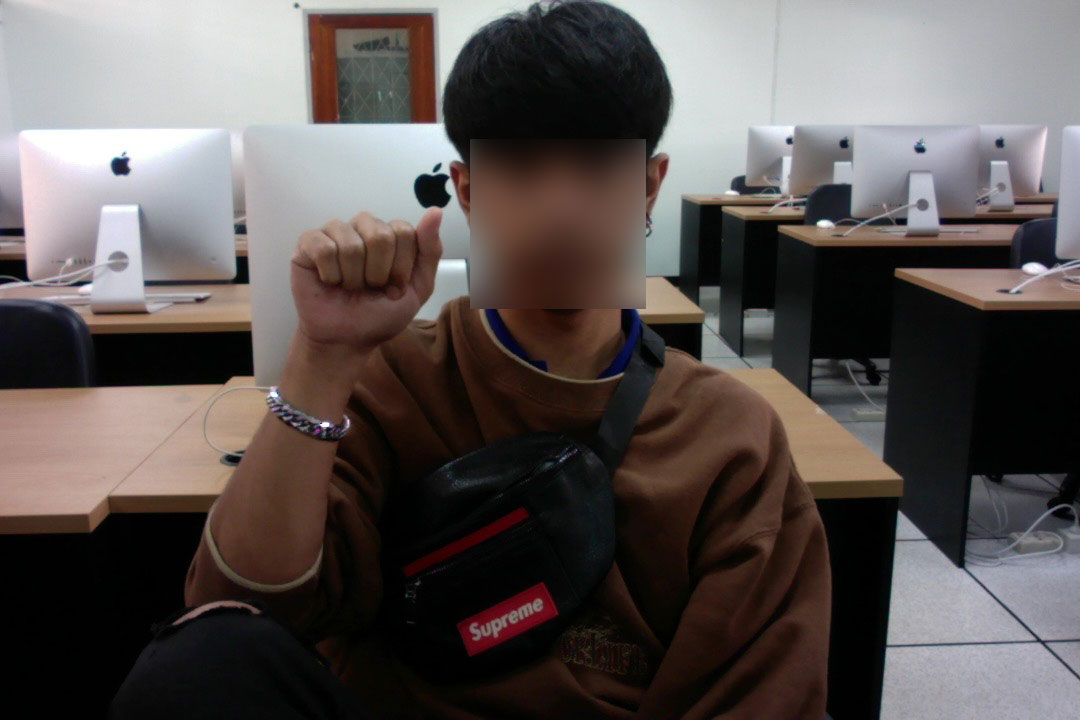or: (279, 200, 450, 368)
